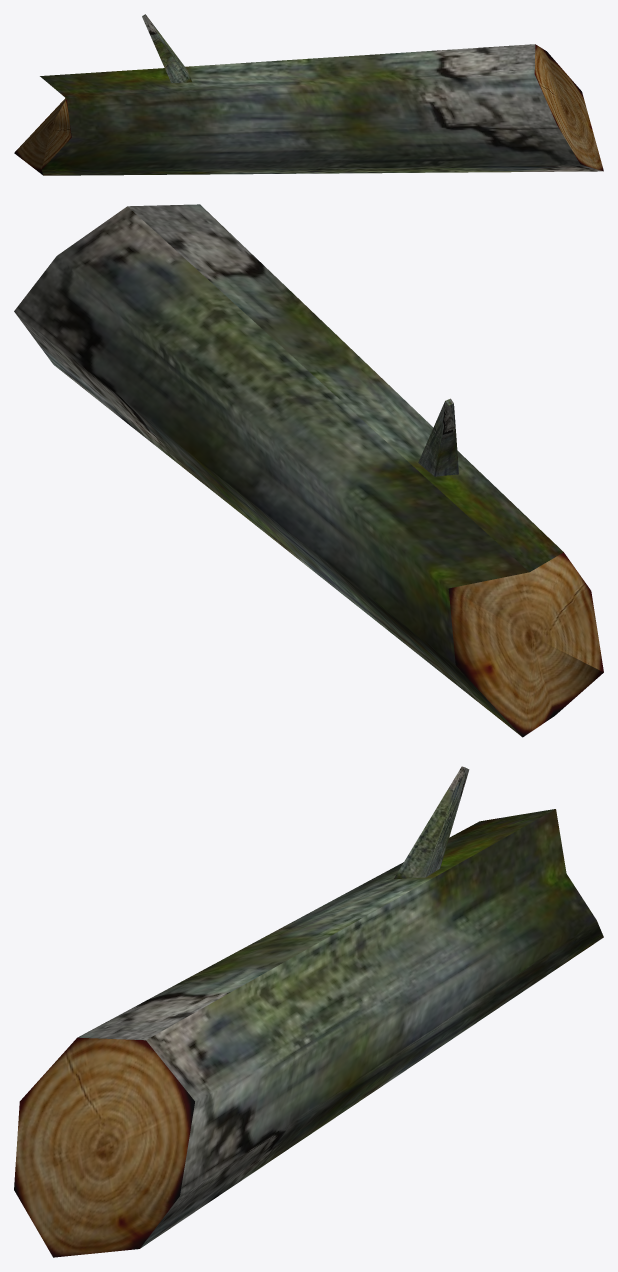
The model's file is pir_m_prp_dvj_log_b.fbx.
The picture shows the model from 3 angles, top to bottom: view 1: azimuth 30°, elevation 25°; view 2: azimuth 150°, elevation 25°; view 3: azimuth 270°, elevation 25°; orthographic projection. The views are drawn at different scales.
Visible parts, largest first — view 1: lod_high; view 2: lod_high; view 3: lod_high.
Boxes of the visible parts, bbox=[...] form: lod_high: bbox=[14, 14, 603, 175]; lod_high: bbox=[14, 204, 603, 737]; lod_high: bbox=[14, 766, 603, 1257].
Size of the model in its own units: 724 by 240 by 516.
1 material, 1 textured.
